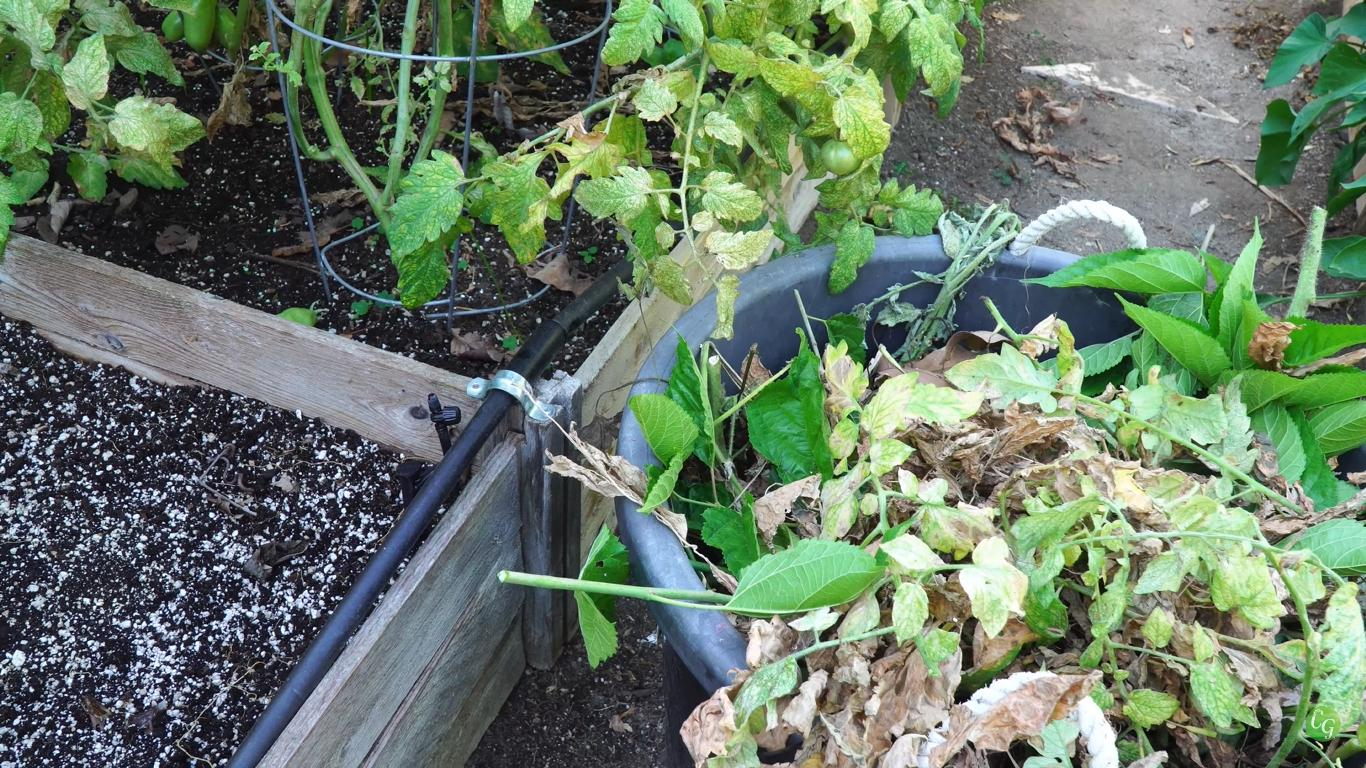Spider Mites: (478, 160, 563, 270), (385, 149, 466, 260), (109, 92, 207, 152), (396, 218, 459, 311), (1184, 663, 1264, 731), (1010, 492, 1103, 548), (572, 164, 655, 222), (908, 13, 964, 98), (833, 82, 893, 159), (0, 0, 61, 73), (600, 2, 668, 67), (62, 29, 112, 111), (859, 369, 919, 437), (880, 176, 945, 238), (119, 28, 186, 88), (959, 563, 1010, 640), (826, 219, 876, 296), (700, 168, 767, 224), (0, 89, 44, 163), (753, 96, 794, 175), (756, 50, 822, 98), (706, 228, 775, 272), (73, 0, 148, 37), (706, 273, 744, 342), (1124, 686, 1180, 732), (892, 582, 930, 648), (660, 0, 706, 50), (630, 76, 678, 122), (708, 40, 759, 81), (866, 438, 916, 478), (702, 110, 745, 155), (1138, 602, 1176, 650), (880, 0, 913, 44), (765, 0, 820, 26), (766, 33, 804, 56)
